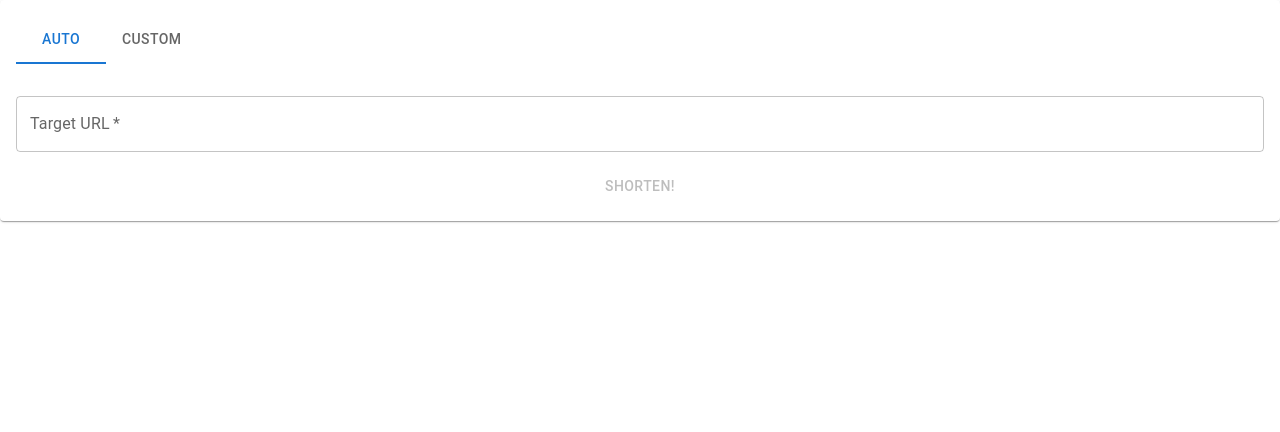
Test: should regenerate unique id when refresh button is pressed
Click the tab with test id "tabs-selection-1": (152, 40) [106,16,197,64]
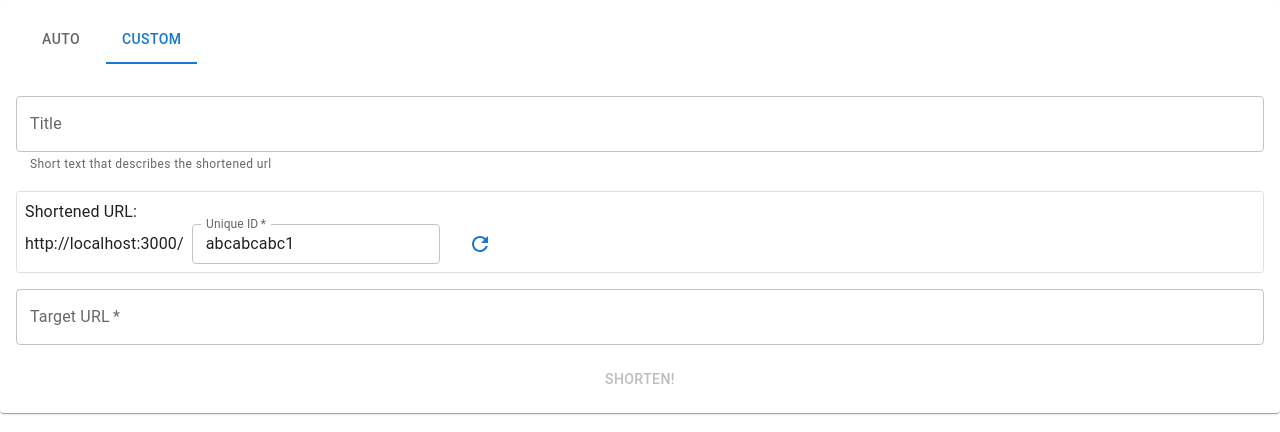
Click the button with test id "refresh-button": (480, 244) [448,224,512,264]
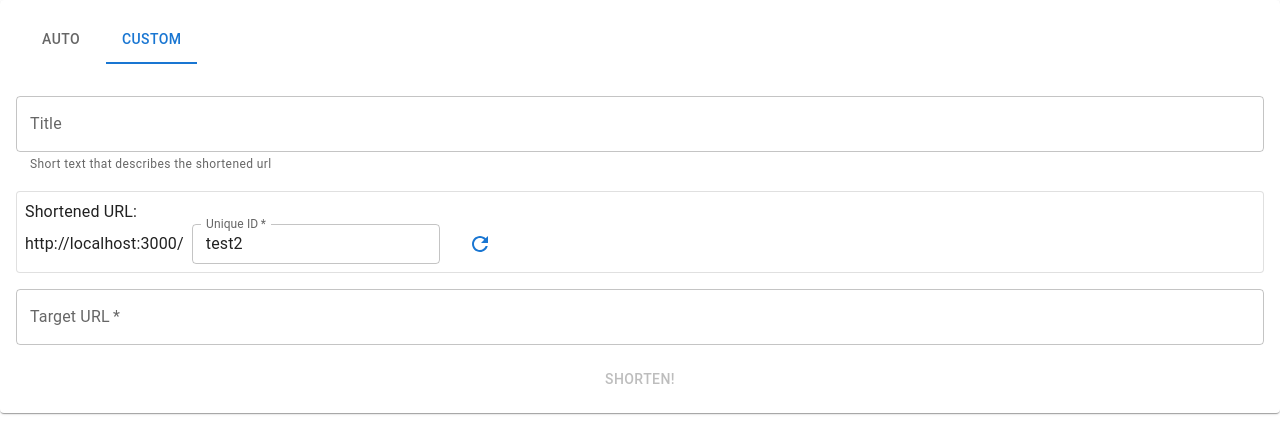
Expected: the field with test id "unique-id-input" holds "test2", [192,224,440,264]
